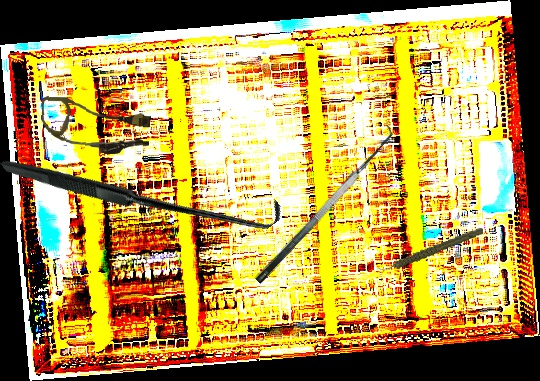Cannula: (39, 96, 152, 156)
Handpiece: (374, 226, 487, 273)
Hook Surgical: (0, 44, 287, 334)
Spatula Surgical: (242, 120, 402, 285)
